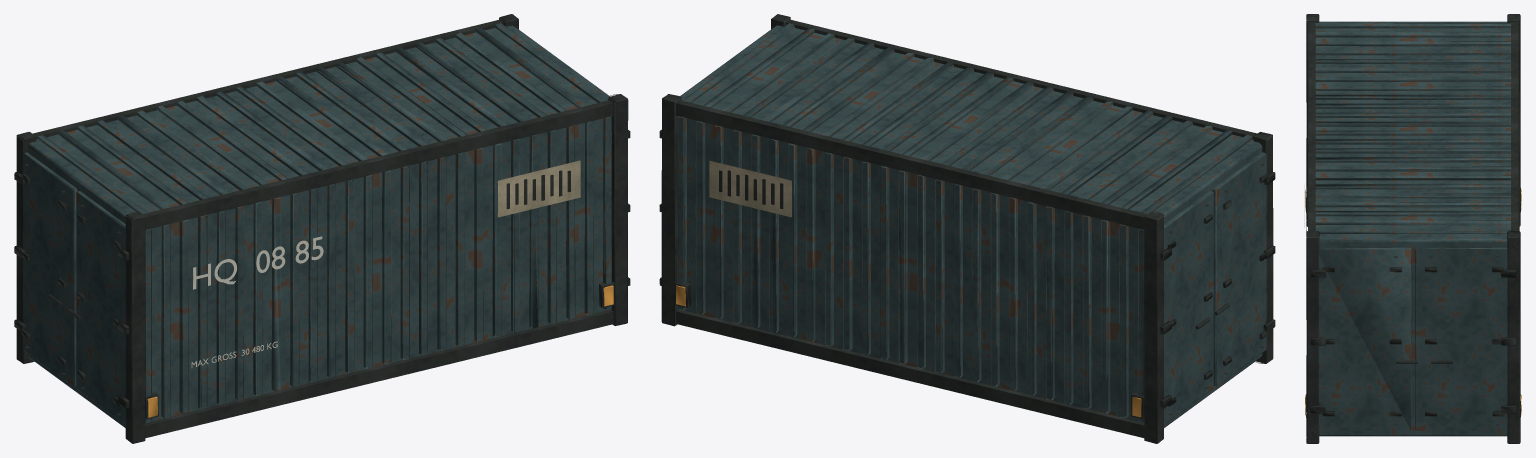
File: shipping_container.glb
3 views of the same model, side by side, from view 1: azimuth 30°, elevation 25°; view 2: azimuth 150°, elevation 25°; view 3: azimuth 270°, elevation 25° (orthographic). The views are drawn at different scales.
Parts seen in each view (by area): view 1: shipping_container_premium, HQ_stencil_HQ 08 85; view 2: shipping_container_premium; view 3: shipping_container_premium.
Part boxes in pixels (left/top/right/bottom): shipping_container_premium: left=14, top=14, right=630, bottom=443; HQ_stencil_HQ 08 85: left=193, top=236, right=323, bottom=289; shipping_container_premium: left=659, top=14, right=1275, bottom=443; shipping_container_premium: left=1305, top=14, right=1521, bottom=443.
Bounding box in the file's own units: 6.1 × 2.61 × 2.47.
Materials: 6 (3 with a texture image).
